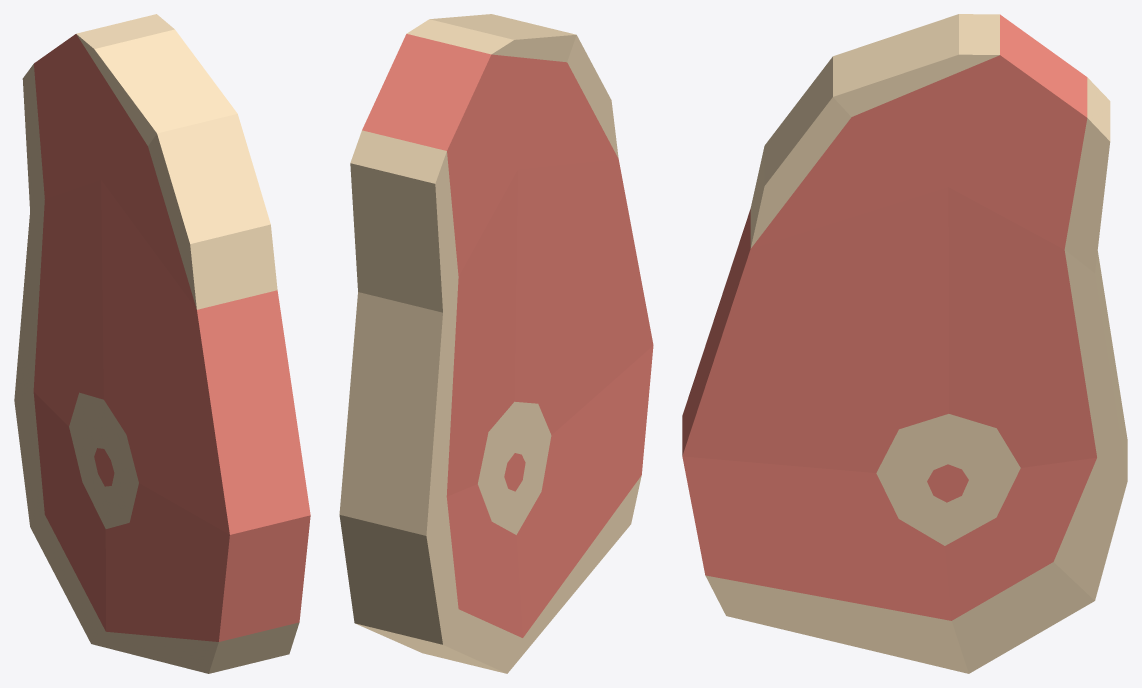
The model's file is steak.gltf.
The picture shows the model from 3 angles, left to right: view 1: azimuth 30°, elevation 25°; view 2: azimuth 150°, elevation 25°; view 3: azimuth 270°, elevation 25°; orthographic projection. The views are drawn at different scales.
Visible parts, largest first — view 1: node-0; view 2: node-0; view 3: node-0.
Boxes of the visible parts, <box> form: node-0: <box>14,14,310,673</box>; node-0: <box>339,14,653,673</box>; node-0: <box>682,14,1127,673</box>.
Bounding box in the file's own units: 1.5 × 9.98 × 6.51.
